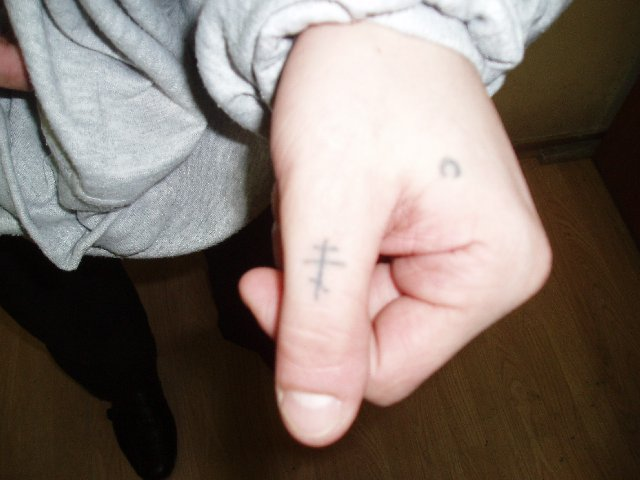tatu9_krest: (294, 228, 348, 301)
